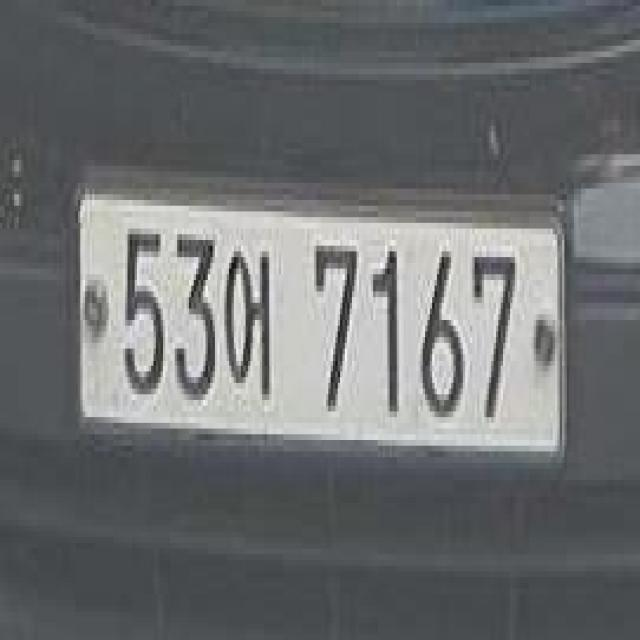1: (366, 250, 410, 430)
3: (172, 218, 220, 418)
5: (122, 216, 167, 404)
6: (416, 246, 470, 429)
7: (472, 242, 520, 434), (309, 234, 357, 424)
eo: (226, 241, 276, 421)
license_plate: (71, 143, 578, 498)
